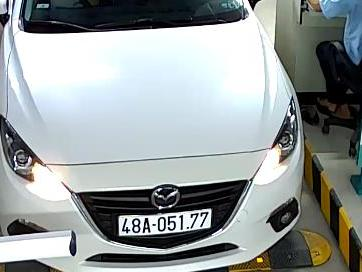number: (118, 208, 213, 237)
